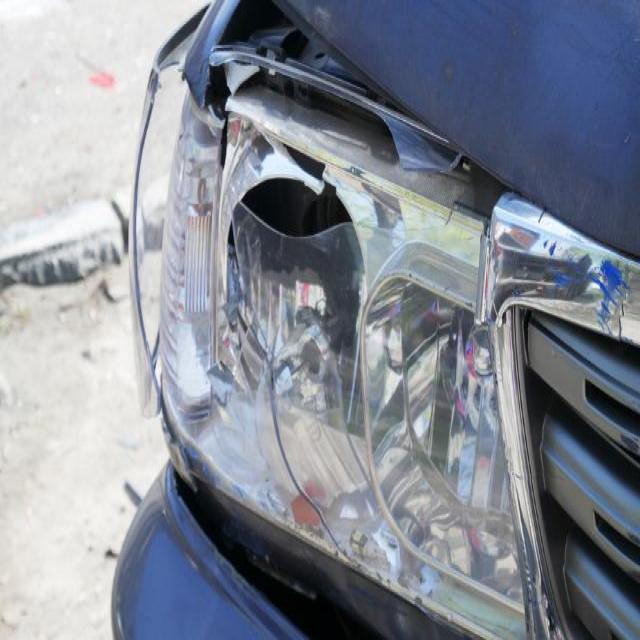Dent: (202, 493, 326, 604), (483, 307, 531, 486), (609, 24, 635, 79), (279, 566, 319, 600), (436, 142, 466, 172), (26, 256, 51, 285), (544, 608, 556, 632), (494, 306, 506, 330), (614, 306, 623, 337), (314, 5, 330, 22), (442, 61, 454, 81), (443, 200, 452, 223), (510, 22, 519, 39), (536, 207, 545, 223), (152, 75, 160, 91), (548, 241, 556, 255), (623, 129, 632, 141)
